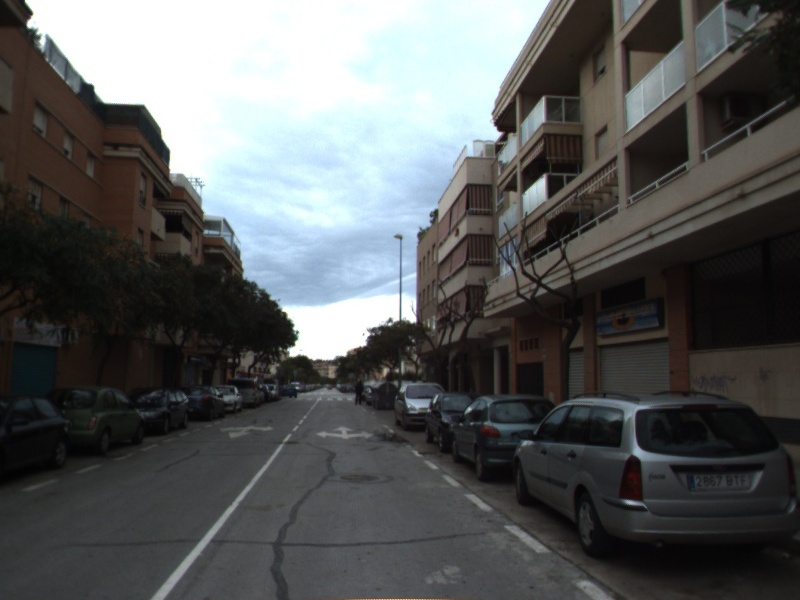STRAIGHT_LEFT_RIGHT: (313, 424, 377, 441)
